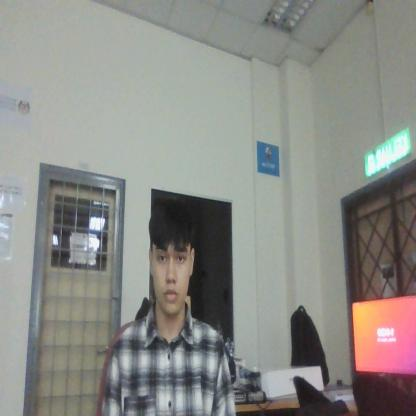Open-Eyes: (153, 240, 191, 267)
